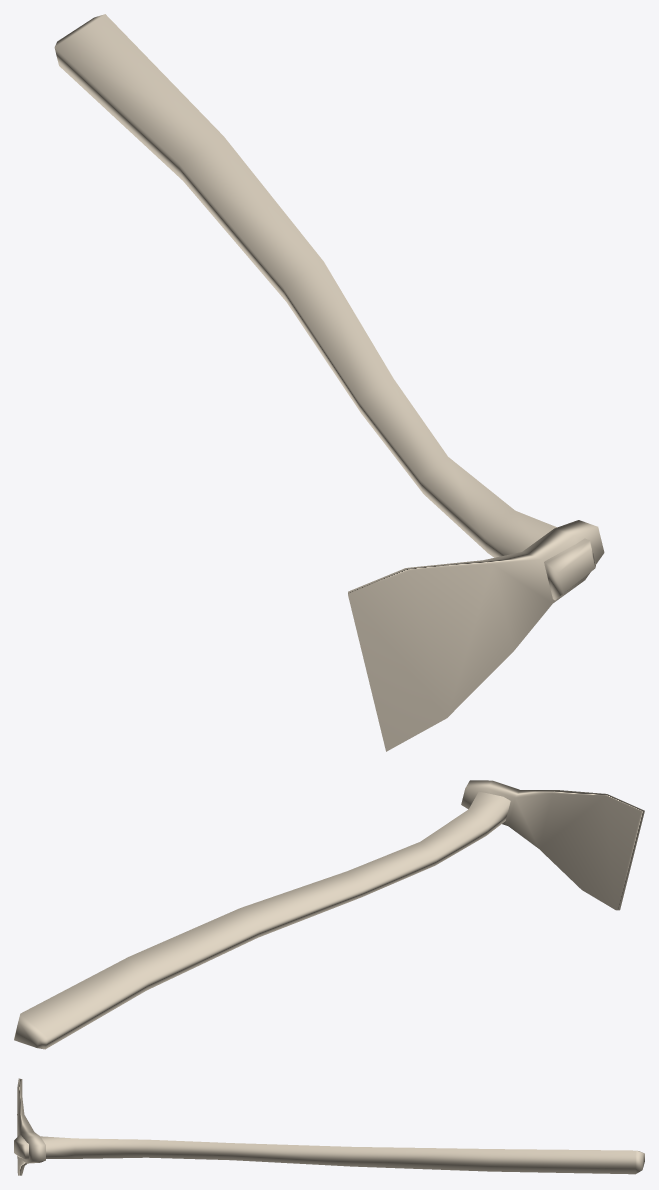
Rendered from hoe-base.glb.
3 renders of one model, top to bottom at view 1: azimuth 30°, elevation 25°; view 2: azimuth 150°, elevation 25°; view 3: azimuth 270°, elevation 25°, orthographic. The views are drawn at different scales.
Size of the model in its own units: 0.5879 by 0.2999 by 1.67.
